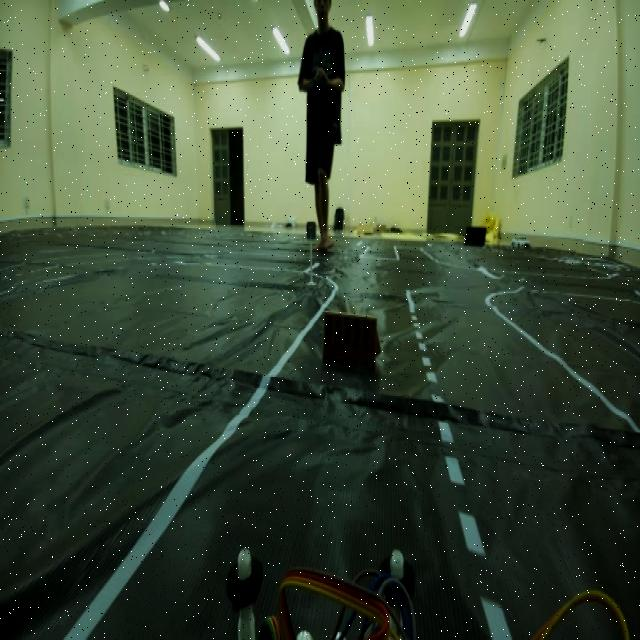roadblock: (320, 304, 387, 384)
